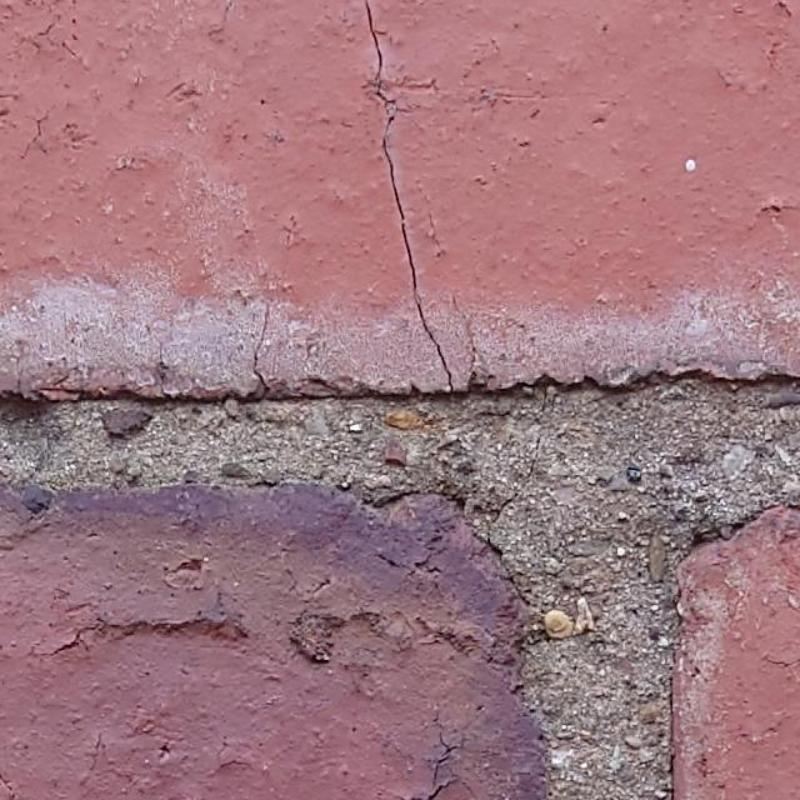crack: (365, 0, 453, 390)
